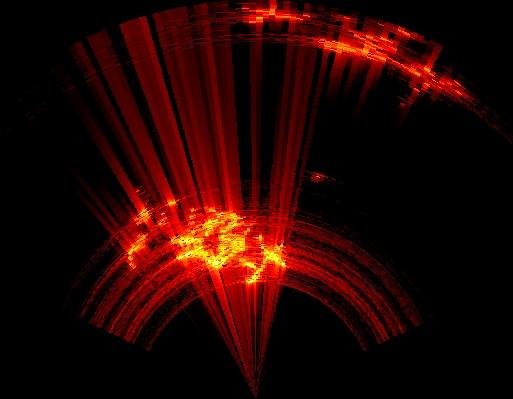shipwreck: (131, 204, 284, 282), (314, 22, 466, 94), (242, 3, 306, 23)
